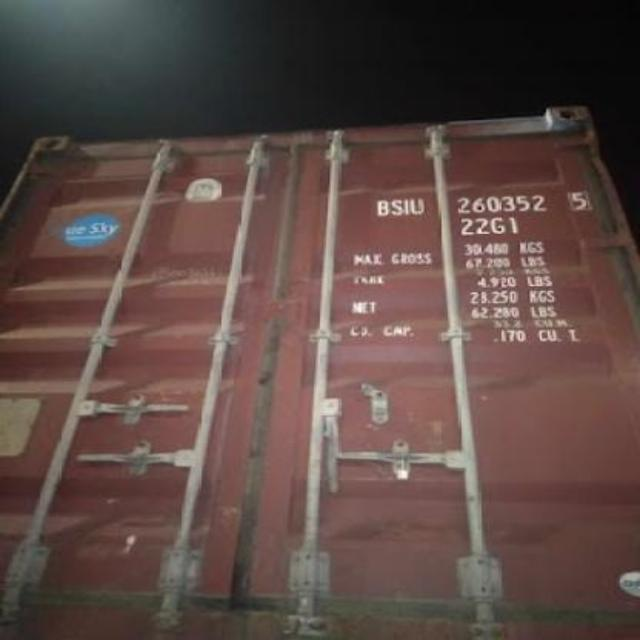0: (486, 188, 502, 216)
2: (452, 189, 470, 215), (528, 185, 546, 211)
3: (502, 192, 516, 216)
5: (564, 187, 594, 211), (516, 188, 532, 216)
6: (470, 182, 486, 214)
B: (374, 197, 390, 220)
I: (400, 193, 412, 217)
S: (388, 194, 402, 216)
U: (410, 187, 426, 219)
